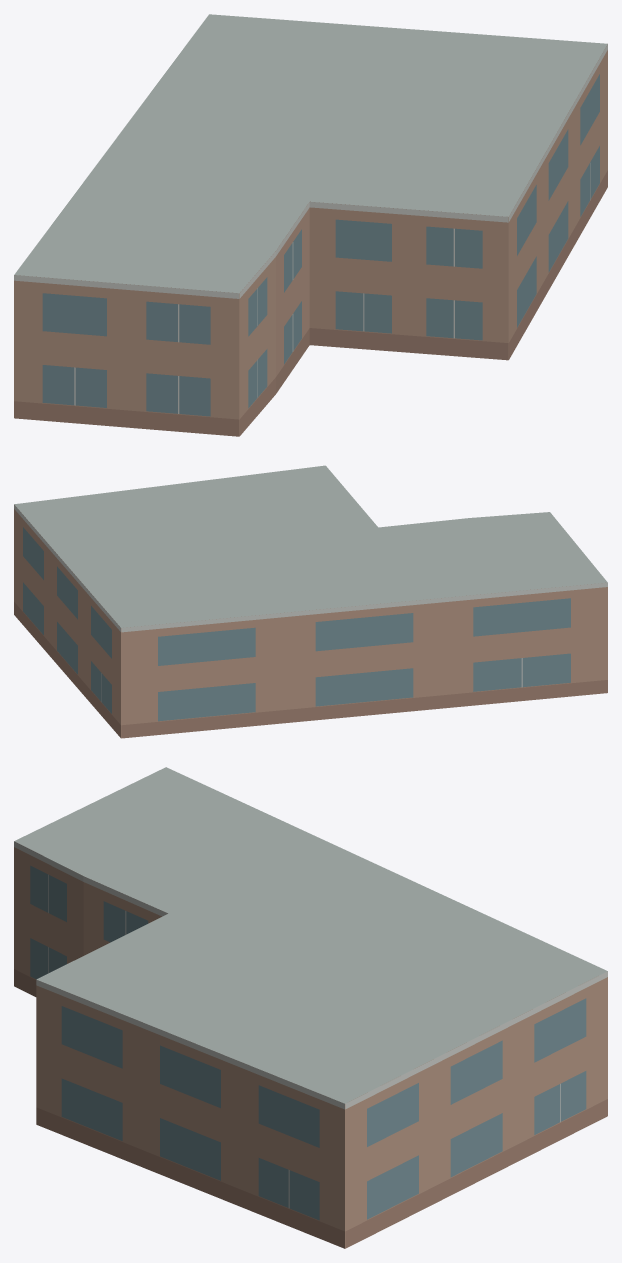
File: survey-upis-32693041.glb
3 renders of one model, top to bottom at view 1: azimuth 30°, elevation 25°; view 2: azimuth 150°, elevation 25°; view 3: azimuth 270°, elevation 25°, orthographic. The views are drawn at different scales.
Parts seen in each view (by area): view 1: survey-upis-32693041.tmp; view 2: survey-upis-32693041.tmp; view 3: survey-upis-32693041.tmp.
Part boxes in pixels (x1,y1,x2,y2): survey-upis-32693041.tmp: (14, 14, 607, 436); survey-upis-32693041.tmp: (14, 465, 607, 738); survey-upis-32693041.tmp: (14, 767, 607, 1248).
Size of the model in its own units: 30.38 by 6.1 by 22.64.
